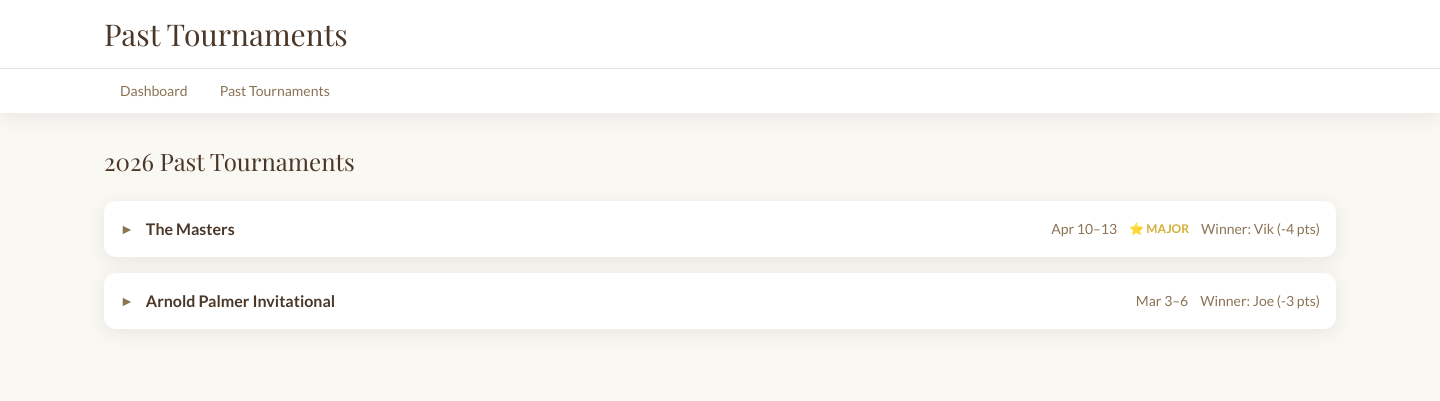
Test case: PastTournaments › Accordion Behavior › should show not available message when results array is empty
The width and height of the screenshot is (1440, 401).
Click the text "The Masters" at (190, 228), box [146,219,235,238]
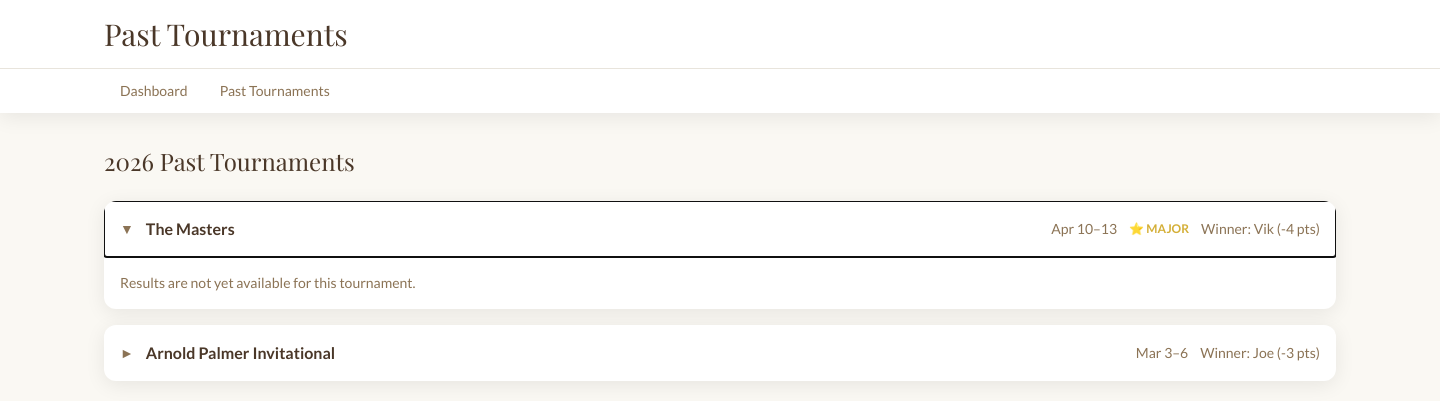
Result: the text "Results are not yet available for this tournament." is shown at [120,274,416,291]
